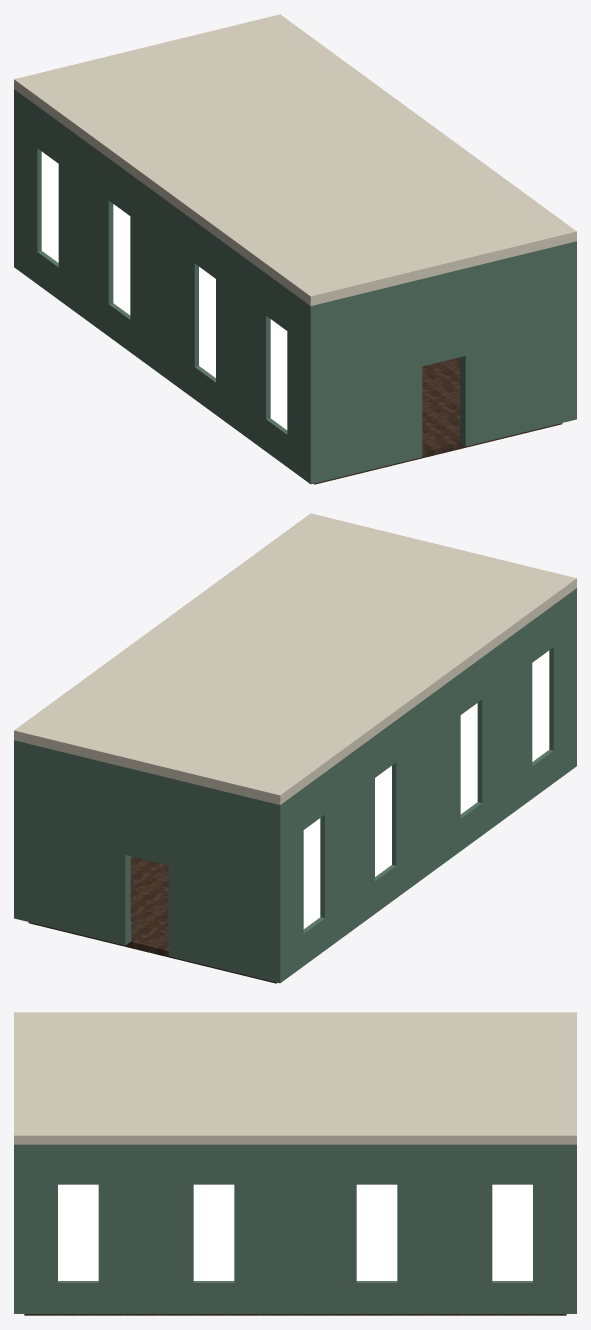
Rendered from munal_gallery.glb.
The picture shows the model from 3 angles, top to bottom: view 1: azimuth 30°, elevation 25°; view 2: azimuth 150°, elevation 25°; view 3: azimuth 270°, elevation 25°; orthographic projection. The views are drawn at different scales.
Parts seen in each view (by area): view 1: Architecture_Room; view 2: Architecture_Room; view 3: Architecture_Room.
Part boxes in pixels (x1,y1,x2,y2): Architecture_Room: (14, 14, 576, 484); Architecture_Room: (14, 513, 576, 983); Architecture_Room: (14, 1012, 576, 1315).
Size of what is drawn, in the model's own units: 8.6 by 6 by 16.6.
13 materials, 9 textured.
